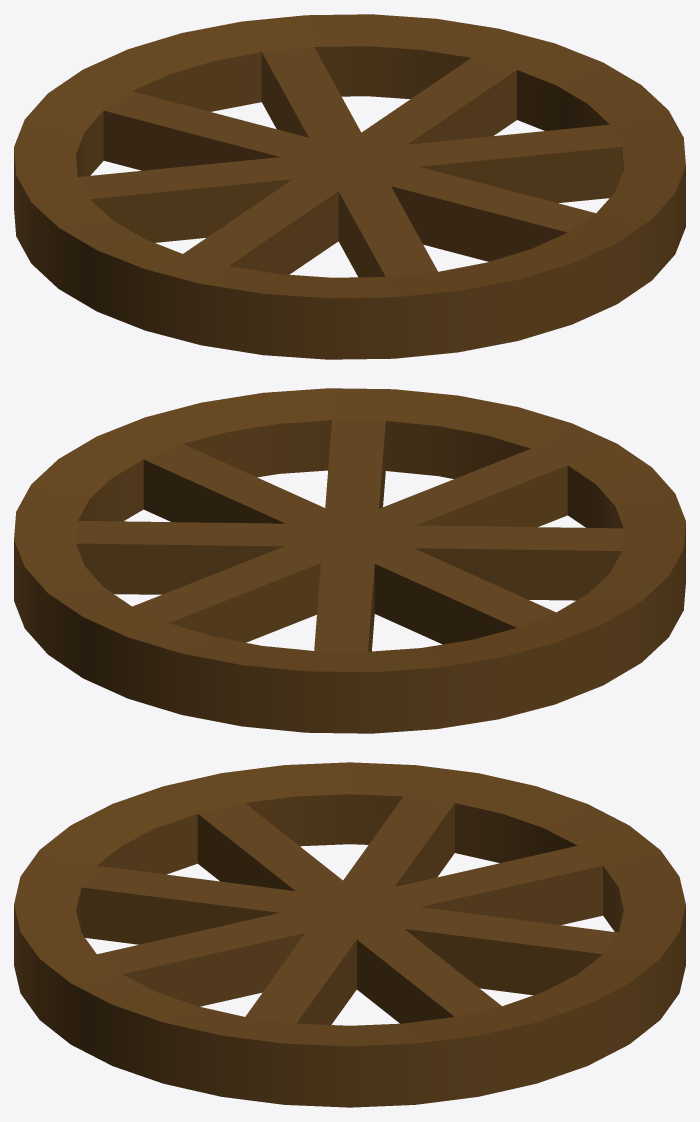
File: TL_Wheel.fbx
3 renders of one model, top to bottom at view 1: azimuth 30°, elevation 25°; view 2: azimuth 150°, elevation 25°; view 3: azimuth 270°, elevation 25°, orthographic.
Visible parts, largest first — view 1: Wheel; view 2: Wheel; view 3: Wheel.
Boxes of the visible parts, left/top/right/bottom form: Wheel: left=14, top=14, right=685, bottom=359; Wheel: left=14, top=388, right=685, bottom=733; Wheel: left=14, top=762, right=685, bottom=1107.
Size of the model in its own units: 124 by 12.44 by 124.
